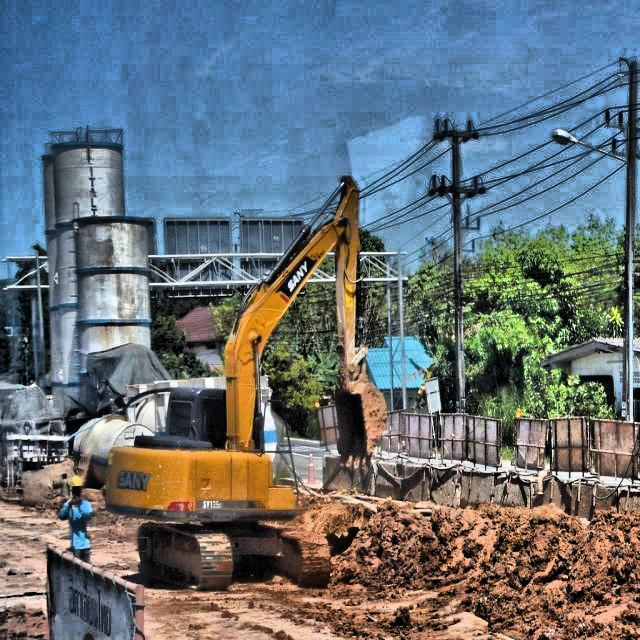excavator: (100, 170, 391, 598)
